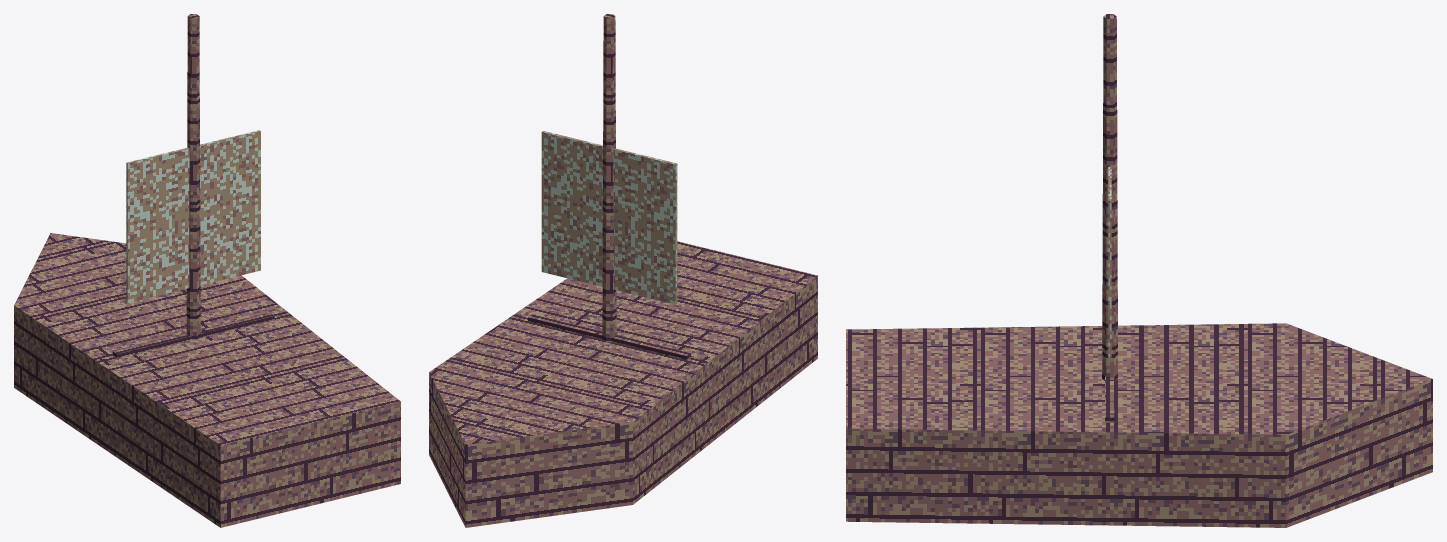
Rendered from a55_navio_pirata.glb.
3 views of the same model, side by side, from view 1: azimuth 30°, elevation 25°; view 2: azimuth 150°, elevation 25°; view 3: azimuth 270°, elevation 25° (orthographic). The views are drawn at different scales.
Parts seen in each view (by area): view 1: a55_navio_pirata; view 2: a55_navio_pirata; view 3: a55_navio_pirata.
Boxes of the visible parts, box(x1,y1,x2,y2) form: a55_navio_pirata: box(14, 14, 400, 527); a55_navio_pirata: box(429, 14, 817, 527); a55_navio_pirata: box(846, 14, 1432, 527).
Size of the model in its own units: 3.96 by 7.54 by 8.8.
2 materials, 2 textured.
